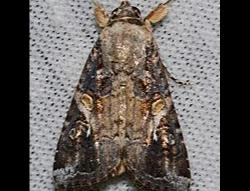army worm adult: (51, 1, 194, 191)
